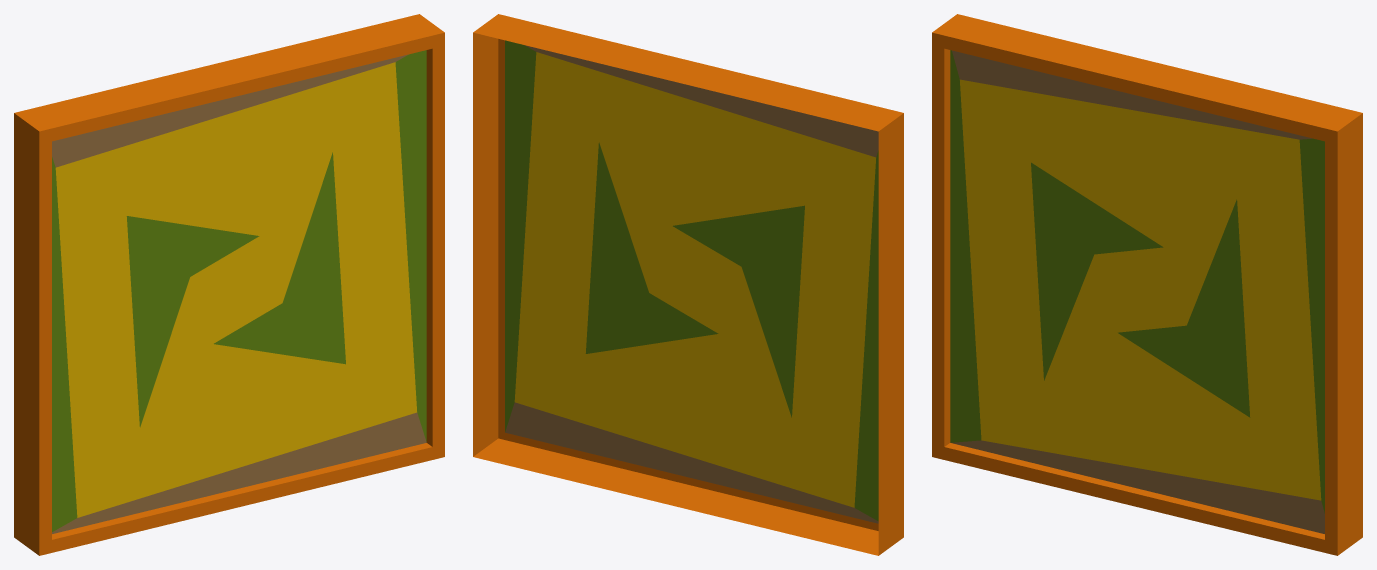
Rendered from 4 picture.fbx.
3 renders of one model, left to right at view 1: azimuth 30°, elevation 25°; view 2: azimuth 150°, elevation 25°; view 3: azimuth 330°, elevation 25°, orthographic.
Visible parts, largest first — view 1: 4 picture; view 2: 4 picture; view 3: 4 picture.
Part boxes in pixels (x1=…): 4 picture: x1=14, y1=14, x2=444, y2=555; 4 picture: x1=473, y1=14, x2=903, y2=555; 4 picture: x1=932, y1=14, x2=1362, y2=555.
Size of the model in its own units: 39.9 by 39.9 by 4.32.
